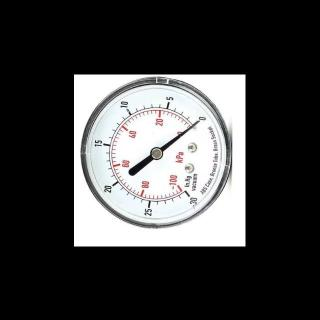gauge: (74, 74, 245, 244), (176, 181, 200, 207), (186, 112, 208, 132), (149, 146, 163, 160), (194, 118, 202, 126)
